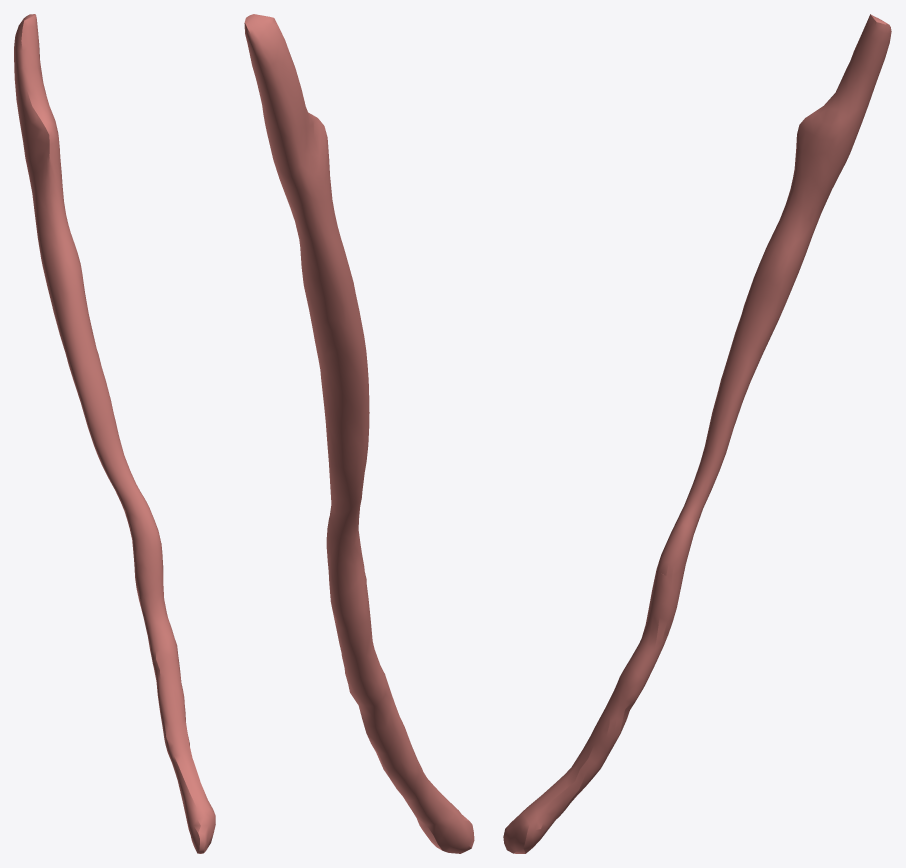
Rendered from fma40781_mm1974m.glb.
3 views of the same model, side by side, from view 1: azimuth 30°, elevation 25°; view 2: azimuth 150°, elevation 25°; view 3: azimuth 270°, elevation 25° (orthographic). The views are drawn at different scales.
Visible parts, largest first — view 1: FMA40781_MM1974M; view 2: FMA40781_MM1974M; view 3: FMA40781_MM1974M.
Part boxes in pixels (left/top/right/bottom): FMA40781_MM1974M: left=14, top=14, right=215, bottom=853; FMA40781_MM1974M: left=244, top=14, right=474, bottom=853; FMA40781_MM1974M: left=503, top=14, right=891, bottom=853.
Bounding box in the file's own units: 0.0113 × 0.1198 × 0.0508.
